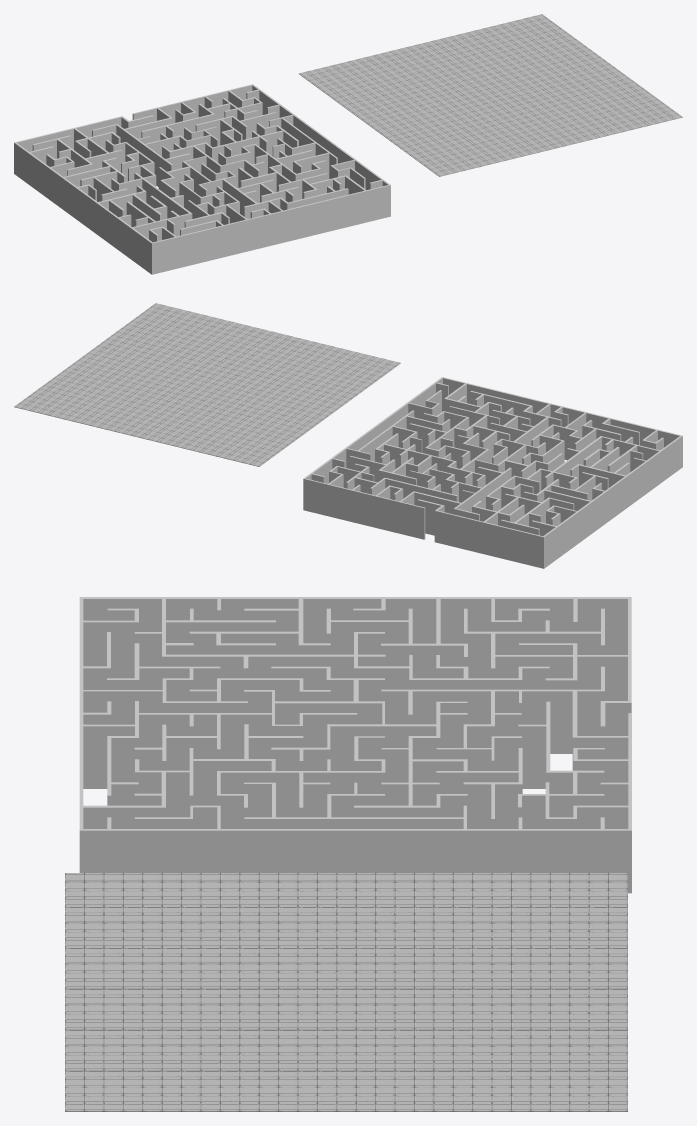
File: roof.fbx
3 views of the same model, one above another, from view 1: azimuth 30°, elevation 25°; view 2: azimuth 150°, elevation 25°; view 3: azimuth 270°, elevation 25° (orthographic). The views are drawn at different scales.
Visible parts, largest first — view 1: Cube, Cube.001; view 2: Cube, Cube.001; view 3: Cube, Cube.001.
Boxes of the visible parts, left/top/right/bottom form: Cube: left=14, top=84, right=390, bottom=274; Cube.001: left=299, top=14, right=682, bottom=176; Cube: left=303, top=377, right=682, bottom=568; Cube.001: left=14, top=303, right=400, bottom=466; Cube: left=79, top=597, right=631, bottom=893; Cube.001: left=65, top=873, right=627, bottom=1111.
Bounding box in the file's own units: 29332 × 1688 × 13647.
1 material, 1 textured.
